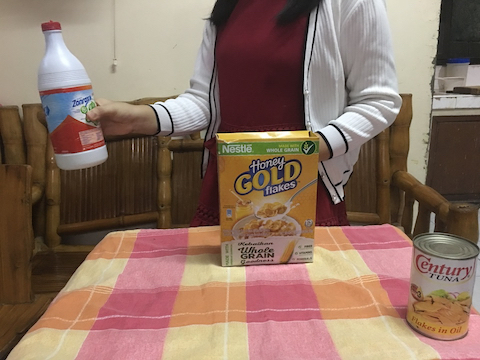bottle: (36, 15, 110, 173)
box: (216, 127, 326, 271)
can: (404, 232, 476, 344)
